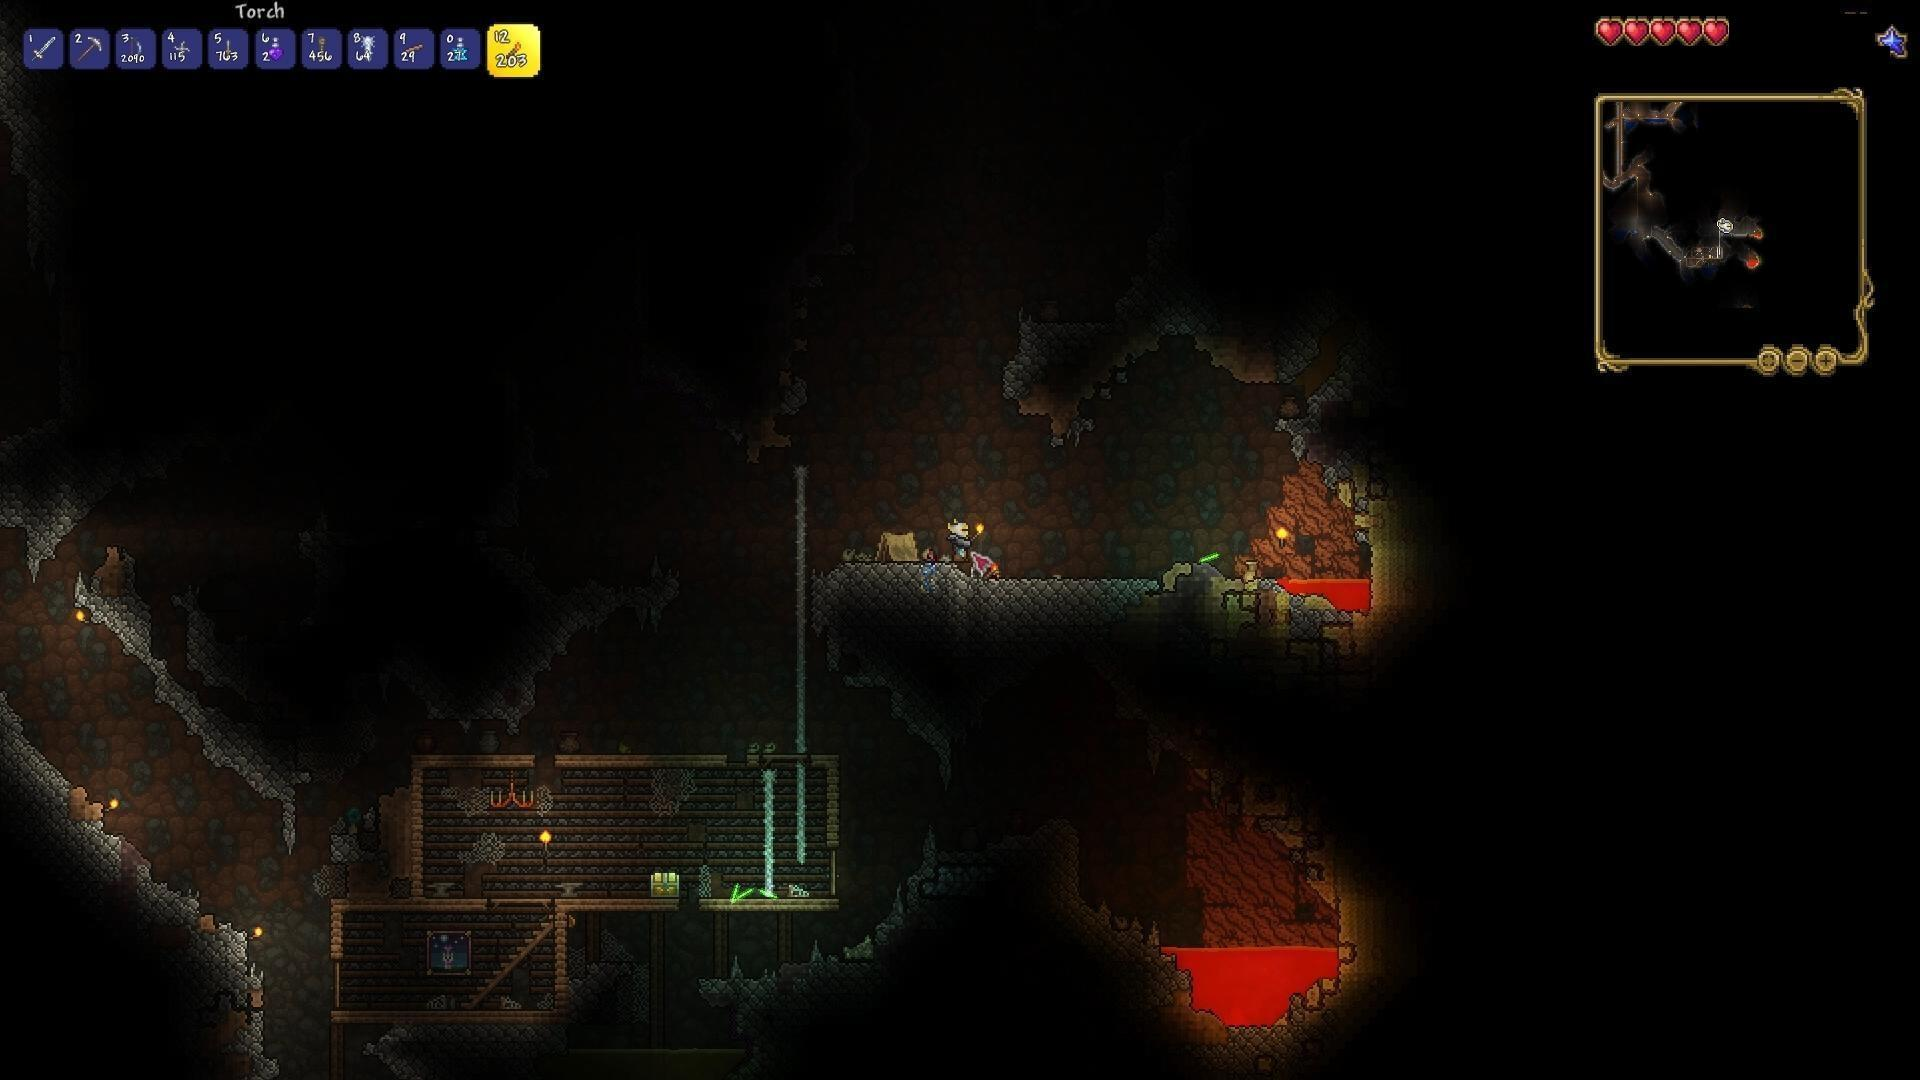heart: (1702, 17, 1733, 51), (1593, 16, 1626, 46), (1676, 15, 1704, 50), (1650, 16, 1676, 49), (1625, 15, 1651, 44)
stone: (811, 545, 1149, 694), (0, 690, 132, 898), (177, 694, 310, 811), (688, 948, 841, 1050), (1005, 310, 1118, 404), (83, 553, 160, 675), (371, 1018, 518, 1080), (133, 839, 211, 952), (7, 477, 88, 570), (1229, 1018, 1338, 1080)
